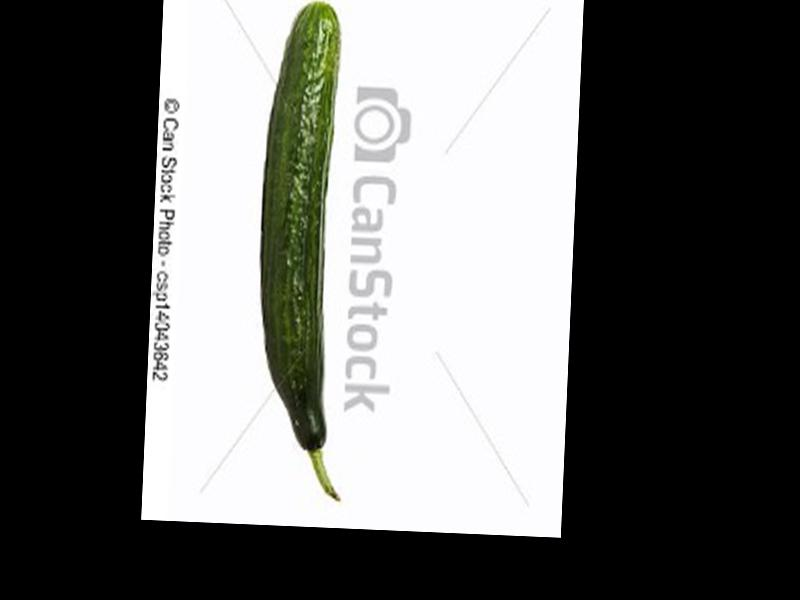Cucumber: (249, 2, 359, 503)
